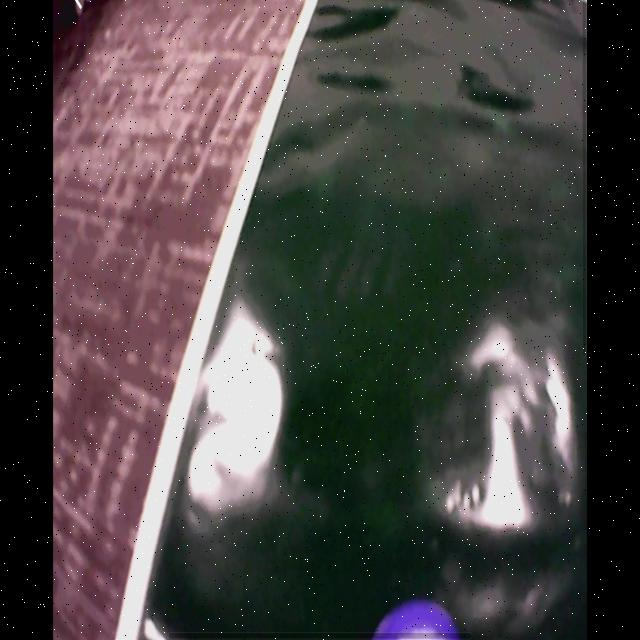ball: (377, 605, 464, 639)
